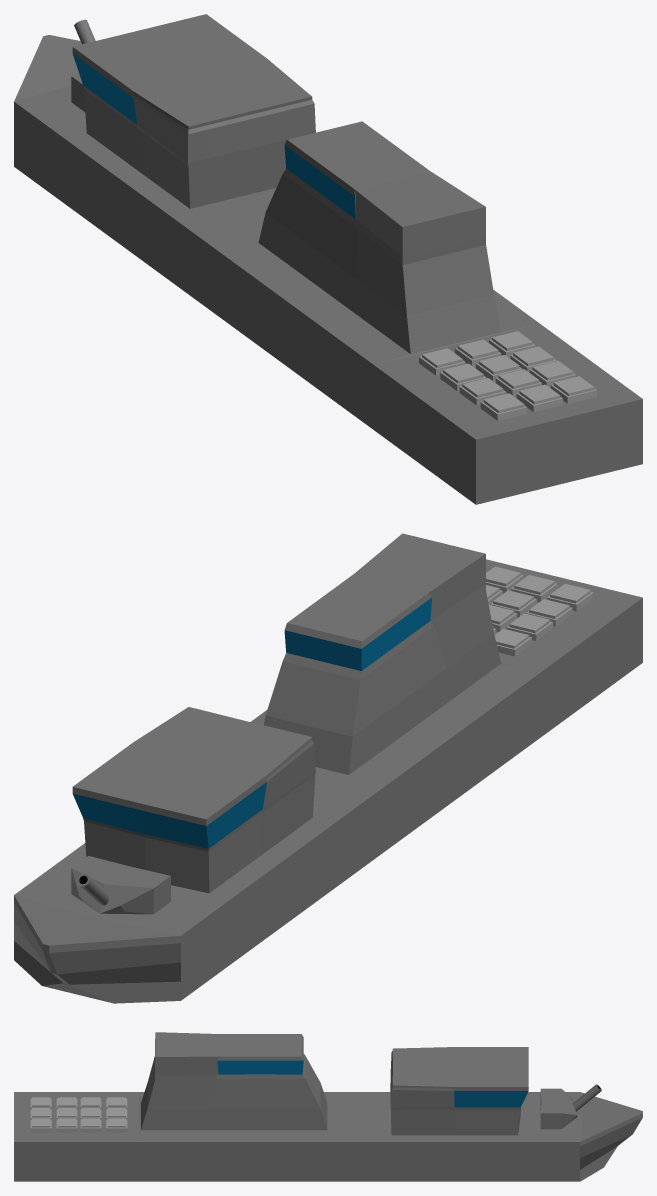
The model's file is Cruiser.glb.
3 renders of one model, top to bottom at view 1: azimuth 30°, elevation 25°; view 2: azimuth 150°, elevation 25°; view 3: azimuth 270°, elevation 25°, orthographic. The views are drawn at different scales.
Visible parts, largest first — view 1: Cruiser.001, Cube.002; view 2: Cruiser.001, Cube.002; view 3: Cruiser.001, Cube.002, Cylinder.
Part boxes in pixels (box(x1,y1,x2,y2)): Cruiser.001: box(14, 14, 642, 504); Cube.002: box(419, 331, 597, 420); Cruiser.001: box(14, 533, 642, 1003); Cube.002: box(486, 566, 593, 656); Cruiser.001: box(14, 1032, 642, 1181); Cube.002: box(30, 1097, 127, 1132); Cylinder: box(573, 1084, 601, 1111).
Bounding box in the file's own units: 2.59 × 2.72 × 13.81.
